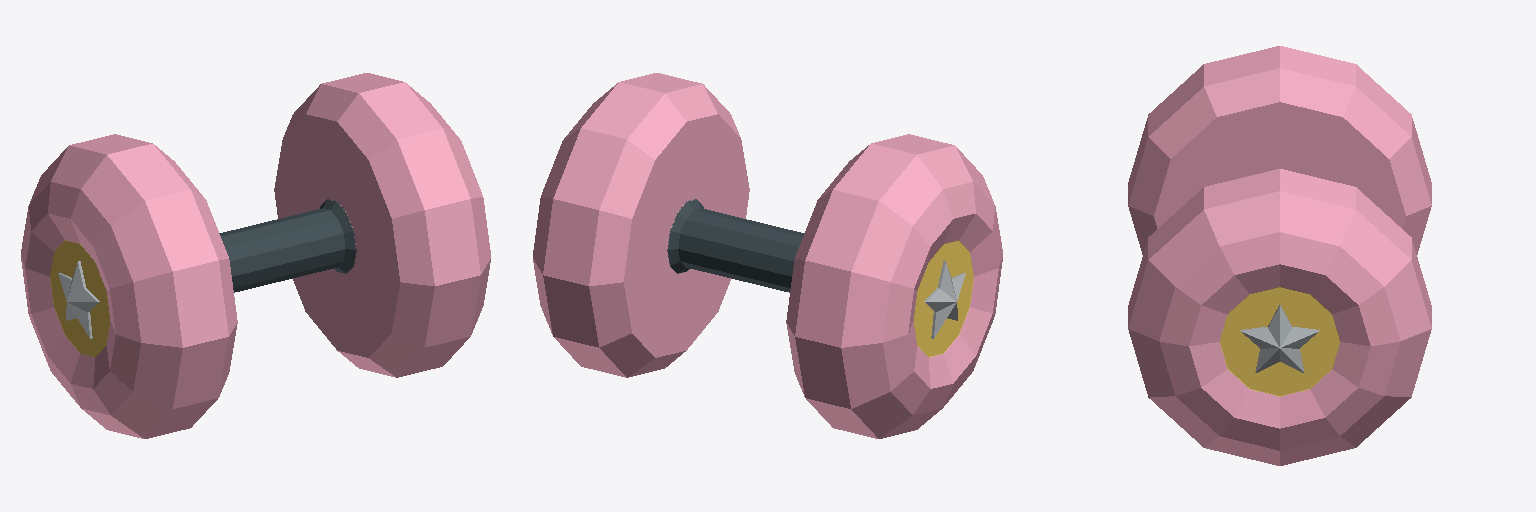
3 renders of one model, left to right at view 1: azimuth 30°, elevation 25°; view 2: azimuth 150°, elevation 25°; view 3: azimuth 270°, elevation 25°, orthographic.
Visible parts, largest first — view 1: 실린더.002_실린더.004; view 2: 실린더.002_실린더.004; view 3: 실린더.002_실린더.004.
Boxes of the visible parts, x1,y1,x2,y2 form: 실린더.002_실린더.004: [21, 73, 490, 438]; 실린더.002_실린더.004: [533, 73, 1002, 438]; 실린더.002_실린더.004: [1128, 46, 1431, 465].
Size of the model in its own units: 7.44 by 5.18 by 5.18.
Materials: 1 (1 with a texture image).